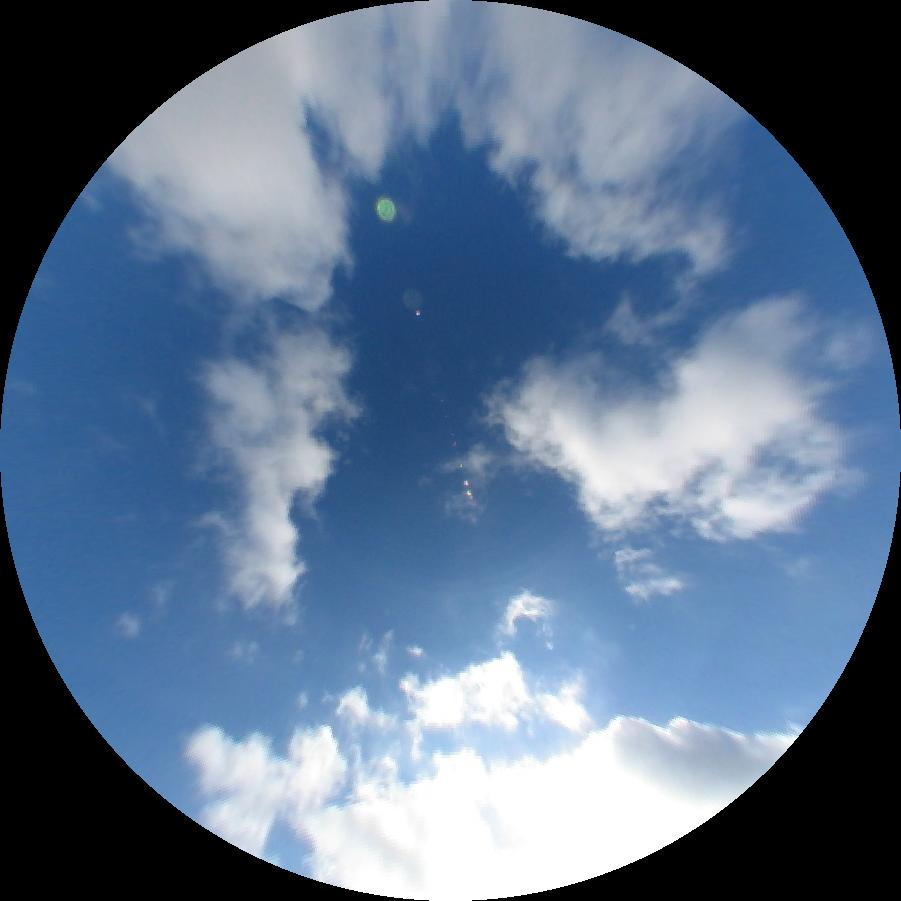sun: (514, 784, 639, 888)
